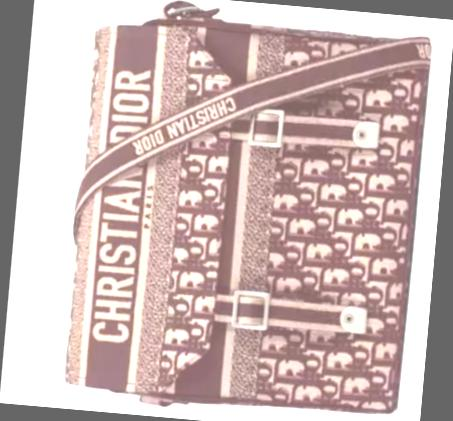DIOR: (78, 43, 171, 351), (123, 69, 244, 174)
